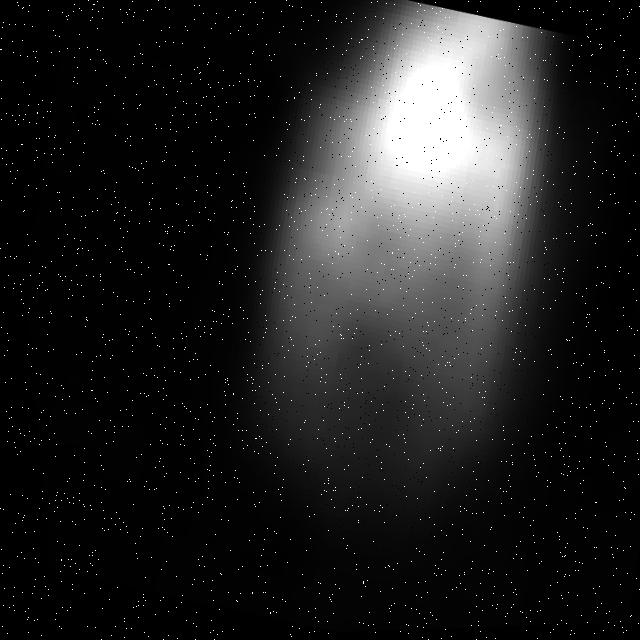person: (157, 1, 640, 590)
